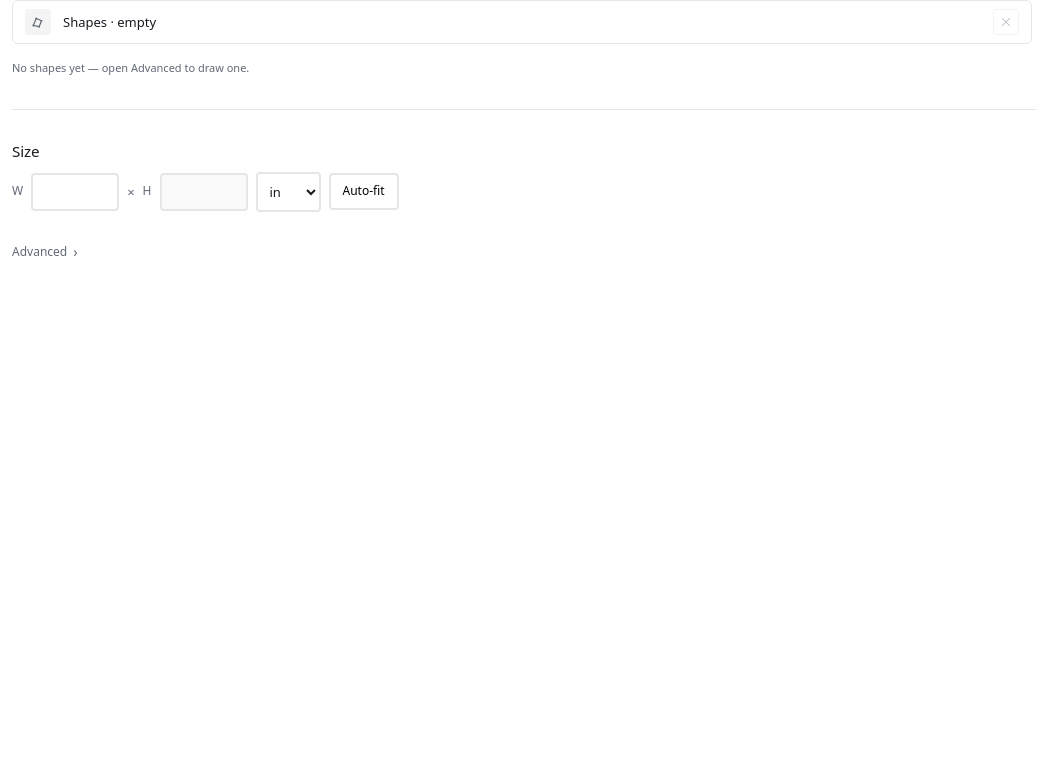
Scenario: manual: the shape list is visible; the drawing canvas, tools and trace import are Advanced
Expected: the button "Undo point" is not shown
Expected: the button "Trace image…" is not shown
Step 1. Click the button with test id "advanced-toggle" → (45, 252), box [12, 238, 78, 267]
(page scrolled)
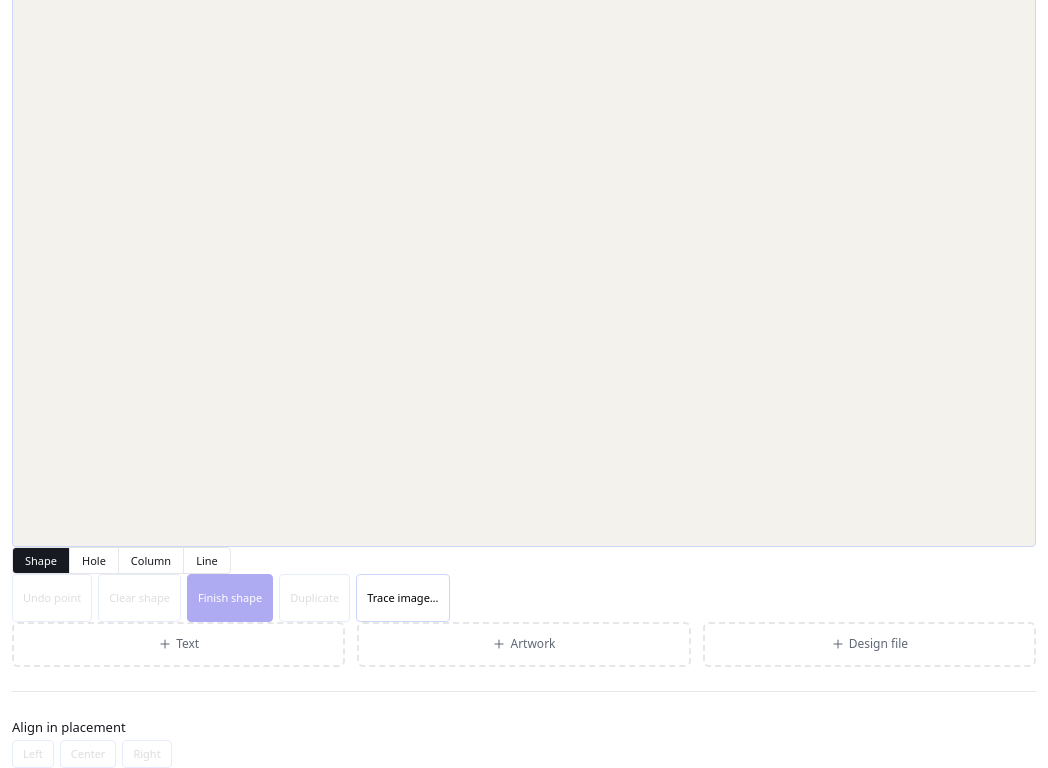
Result: the button "Undo point" is shown at [12, 574, 92, 622]
